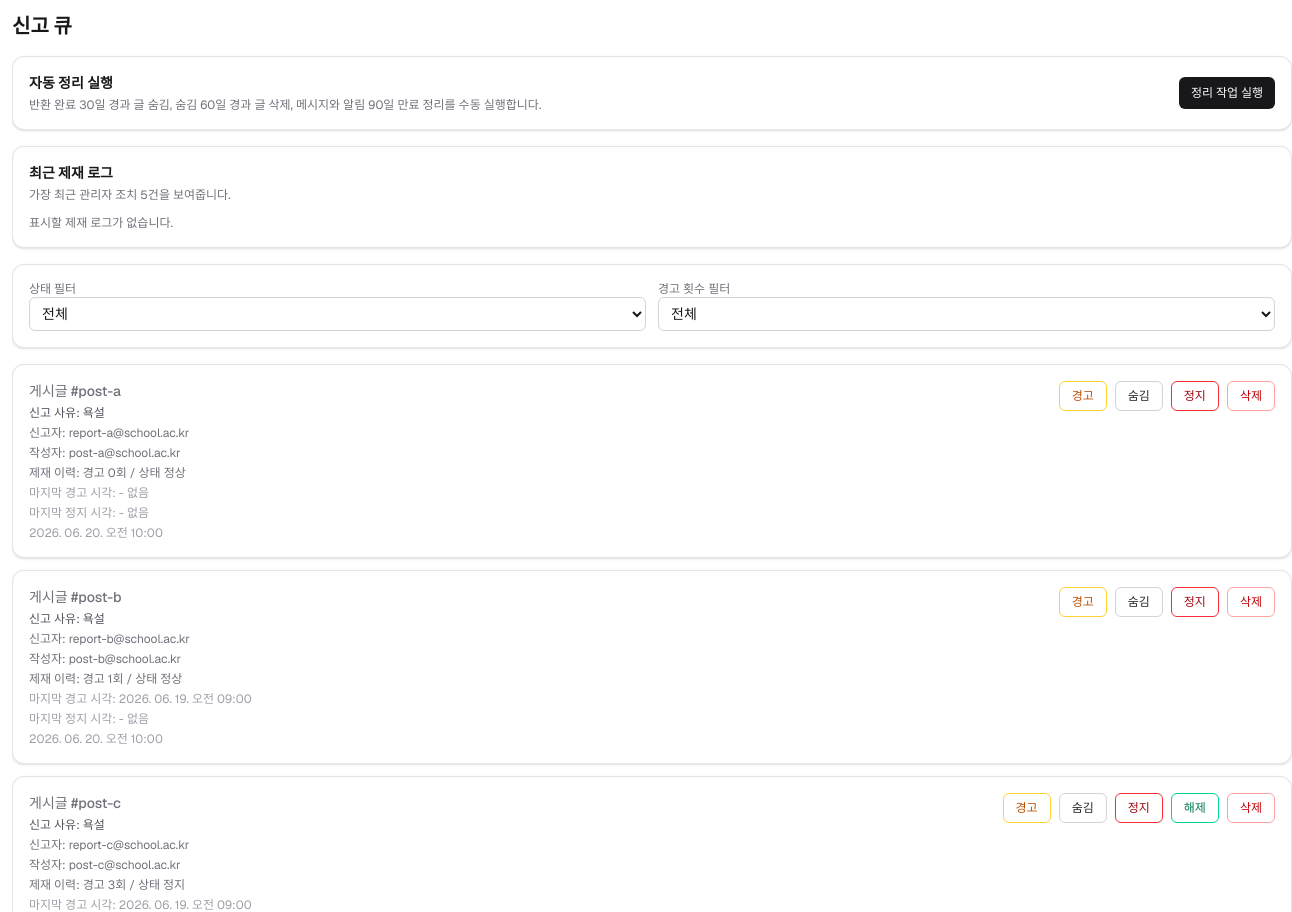
Test: AdminReportQueue › filters reports by moderation status and warning count
Expected: the heading "신고 큐" is shown, [12,13,72,39]
Expected: the text "신고자: report-a@school.ac.kr" is shown, [29,425,189,441]
Select "정지" in the dropdown labelled "상태 필터": {"x": 338, "y": 314} [29,297,646,331]
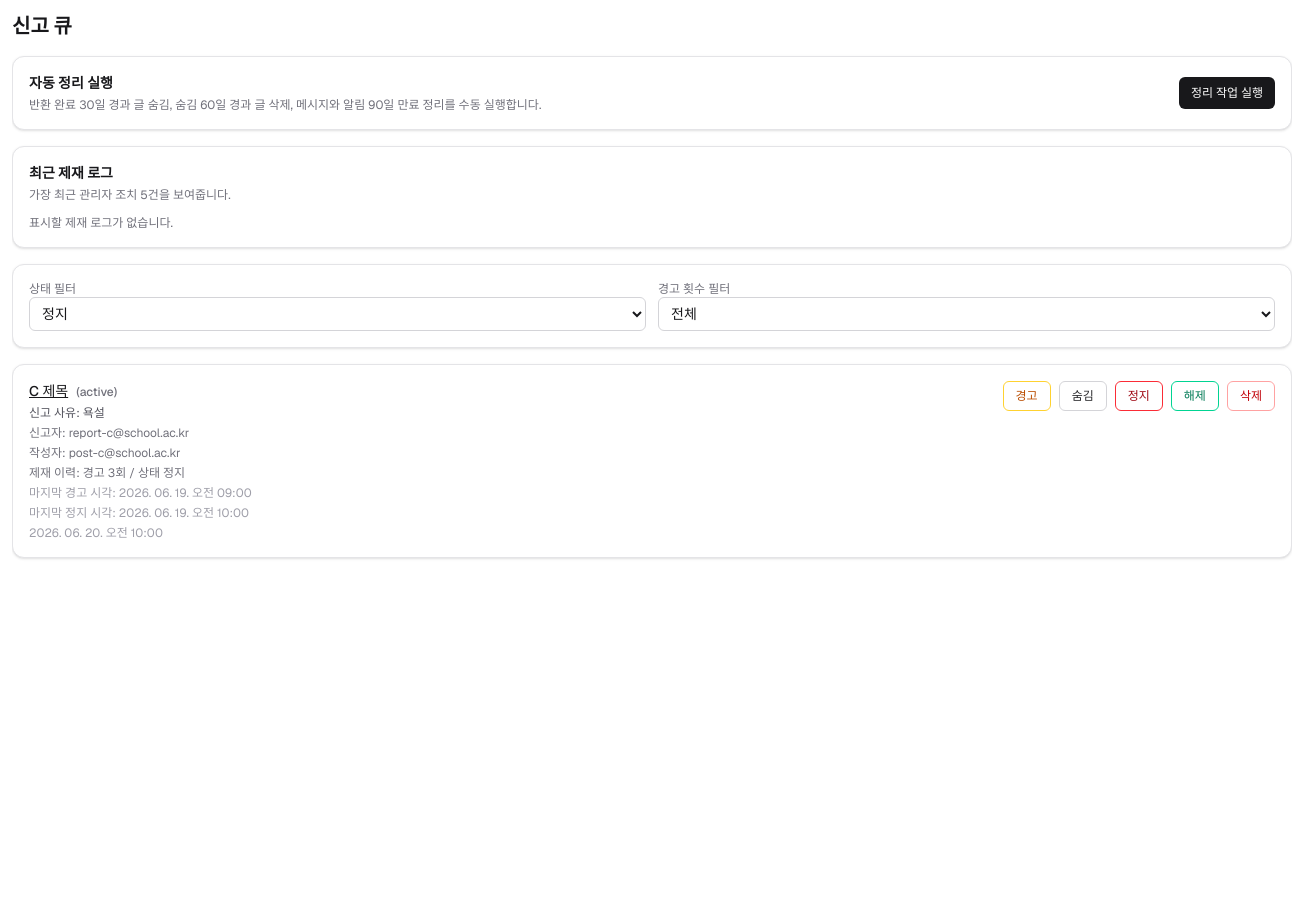
Expected: the text "신고자: report-c@school.ac.kr" is shown, [29,425,189,441]
Expected: the text "신고자: report-a@school.ac.kr" is gone
Expected: the text "신고자: report-b@school.ac.kr" is gone
Select "전체" in the dropdown labelled "상태 필터": {"x": 338, "y": 314} [29,297,646,331]
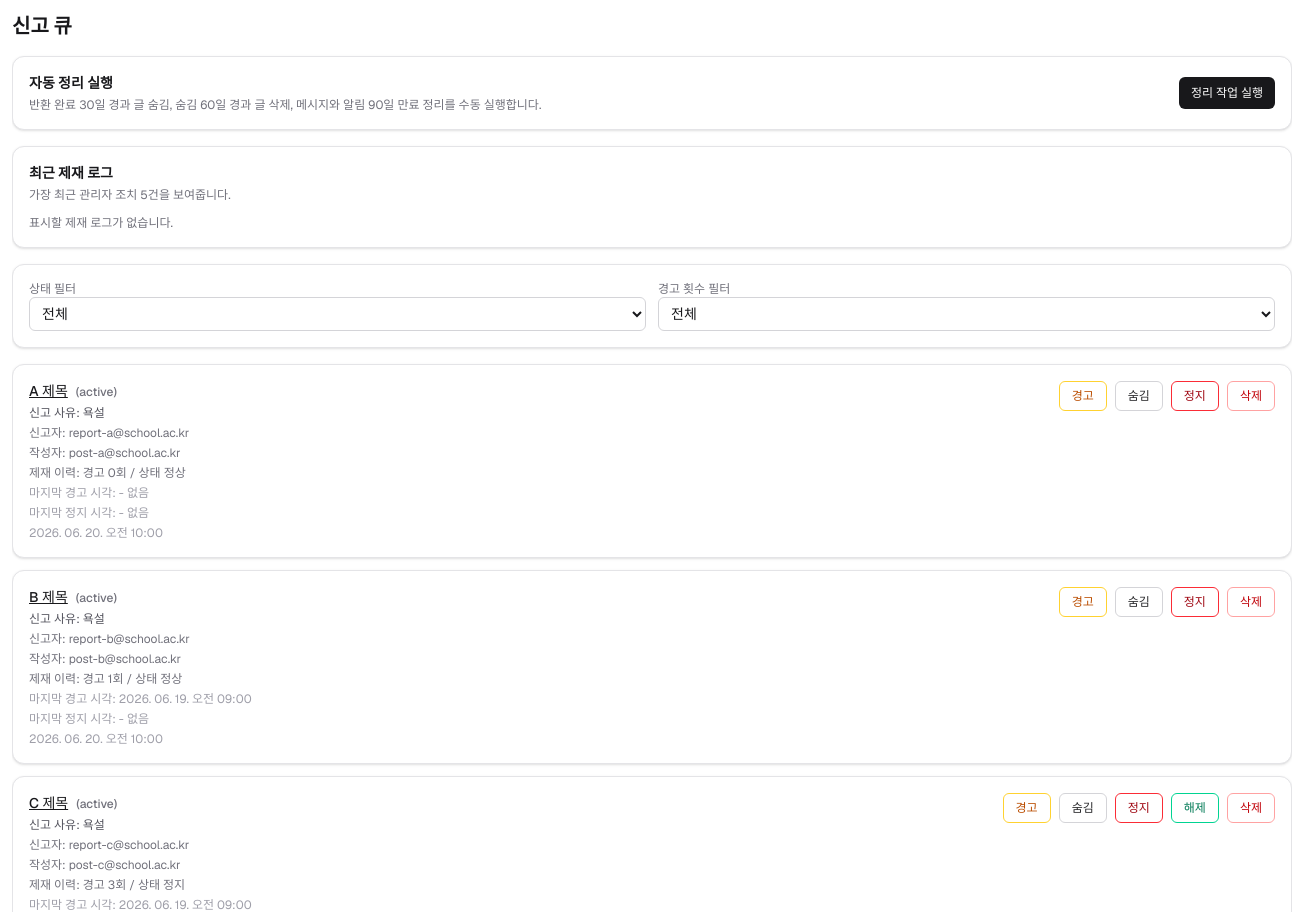
Select "1회 이상" in the dropdown labelled "경고 횟수 필터": {"x": 966, "y": 314} [658,297,1275,331]
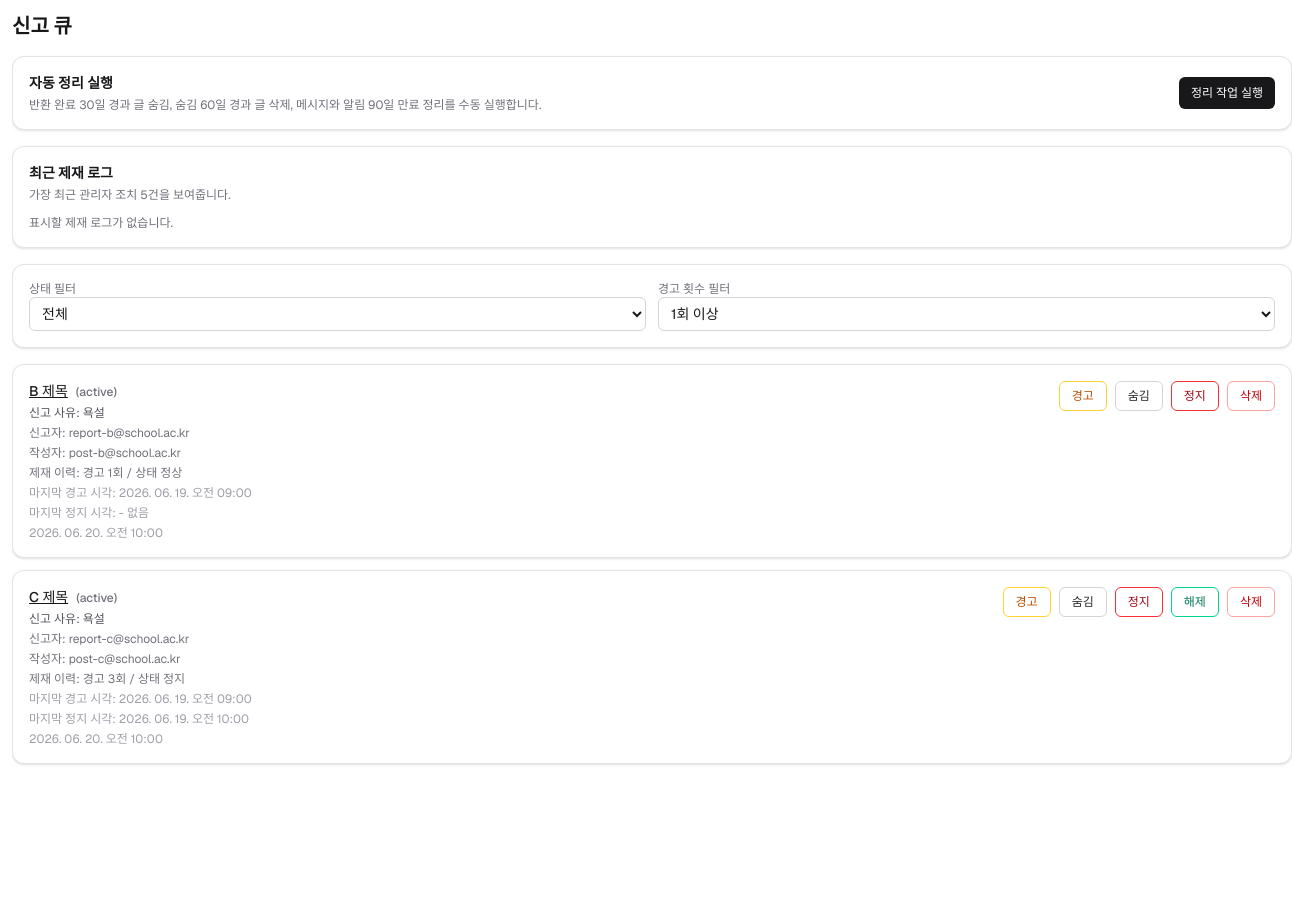
Expected: the text "신고자: report-c@school.ac.kr" is shown, [29,631,189,647]
Expected: the text "신고자: report-b@school.ac.kr" is shown, [29,425,190,441]
Expected: the text "신고자: report-a@school.ac.kr" is gone
